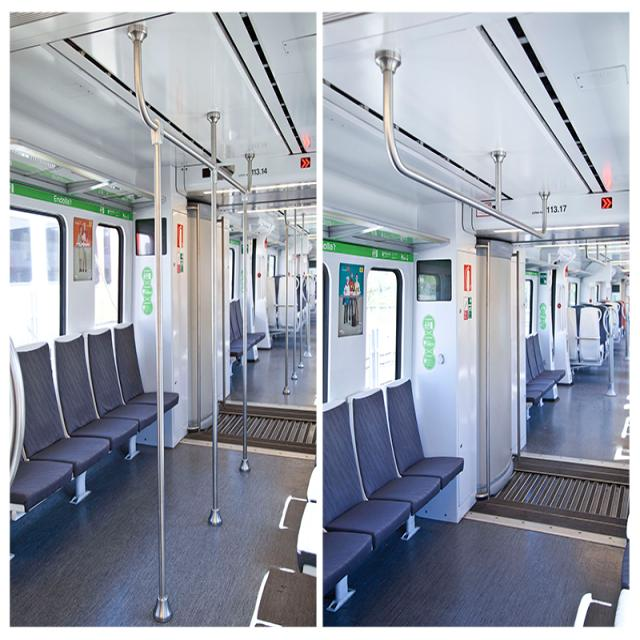seient: (16, 343, 110, 501), (322, 401, 410, 548), (353, 390, 440, 514), (56, 334, 138, 449), (388, 380, 464, 487), (84, 328, 156, 430), (114, 324, 156, 404), (10, 460, 72, 511), (324, 532, 372, 583), (164, 392, 179, 411)
